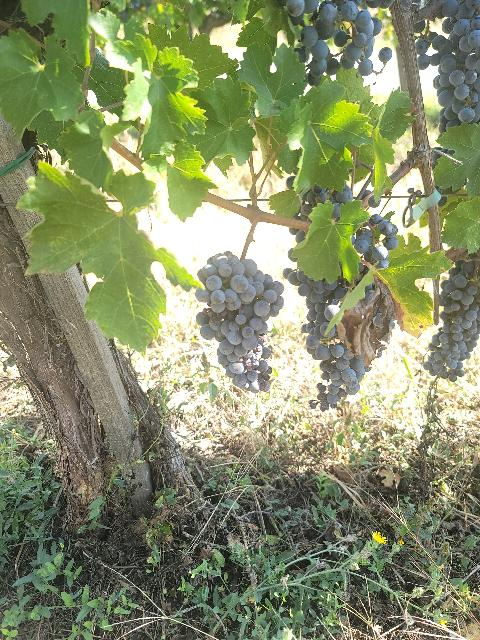grapes: (195, 251, 284, 394), (285, 0, 381, 86), (422, 254, 480, 381), (431, 0, 480, 128), (288, 270, 348, 355), (314, 344, 365, 411)
